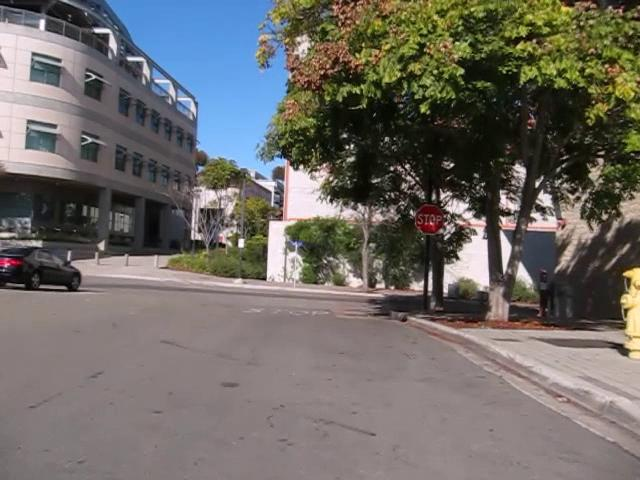stop: (413, 203, 444, 235)
